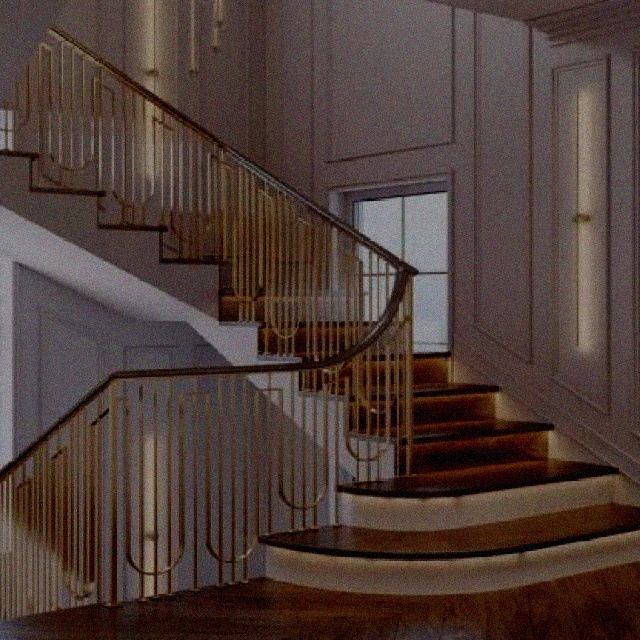stair: (58, 141, 639, 590)
